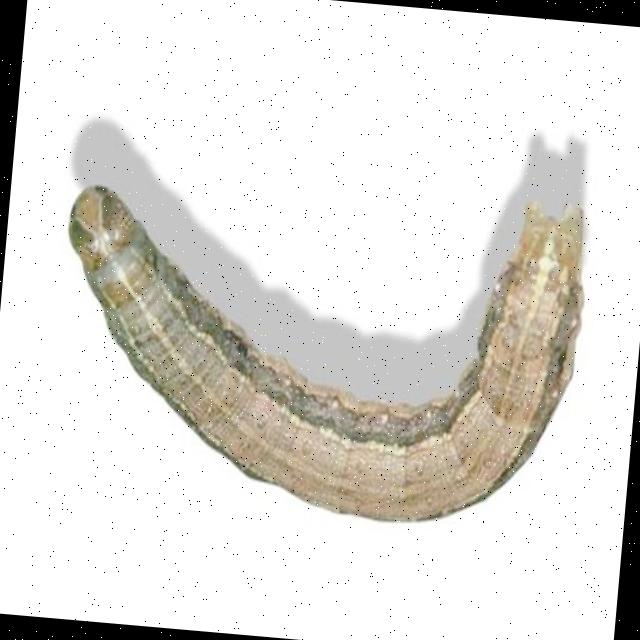worm: (45, 160, 593, 541)
